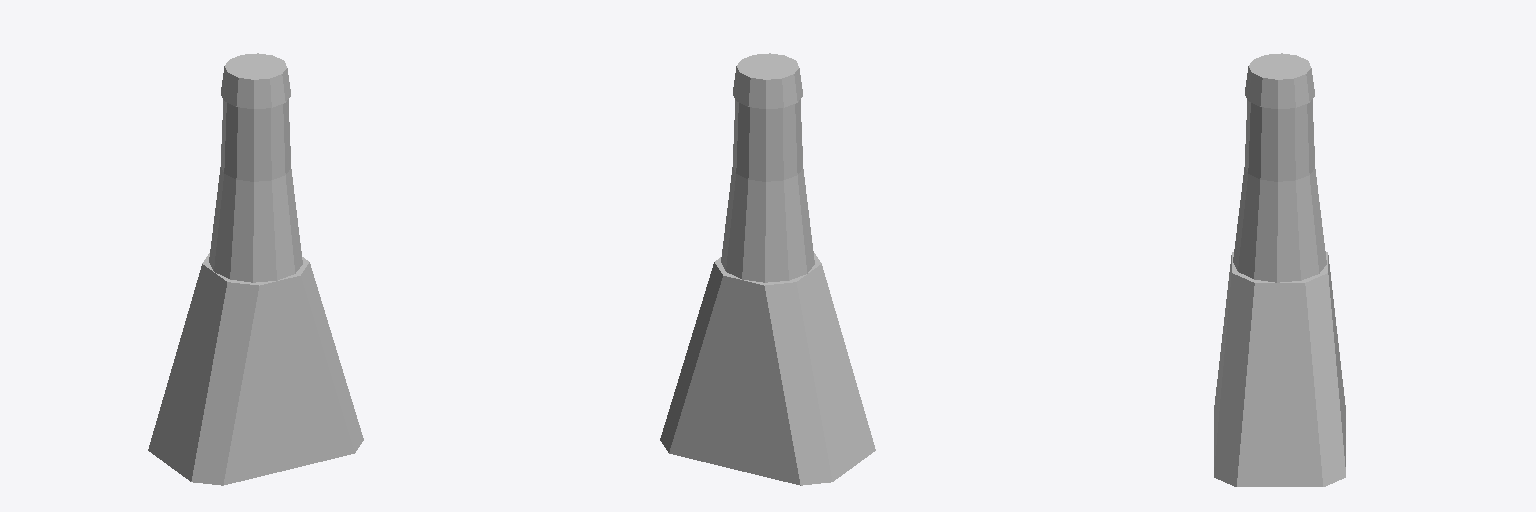
The model's file is Space_Ketchup.obj.
3 renders of one model, left to right at view 1: azimuth 30°, elevation 25°; view 2: azimuth 150°, elevation 25°; view 3: azimuth 270°, elevation 25°, orthographic.
Parts seen in each view (by area): view 1: Space_Ketchup; view 2: Space_Ketchup; view 3: Space_Ketchup.
Part boxes in pixels (left/top/right/bottom): Space_Ketchup: left=148, top=53, right=363, bottom=485; Space_Ketchup: left=660, top=53, right=875, bottom=485; Space_Ketchup: left=1214, top=53, right=1345, bottom=486.
Bounding box in the file's own units: 0.1991 × 0.4171 × 0.1326.